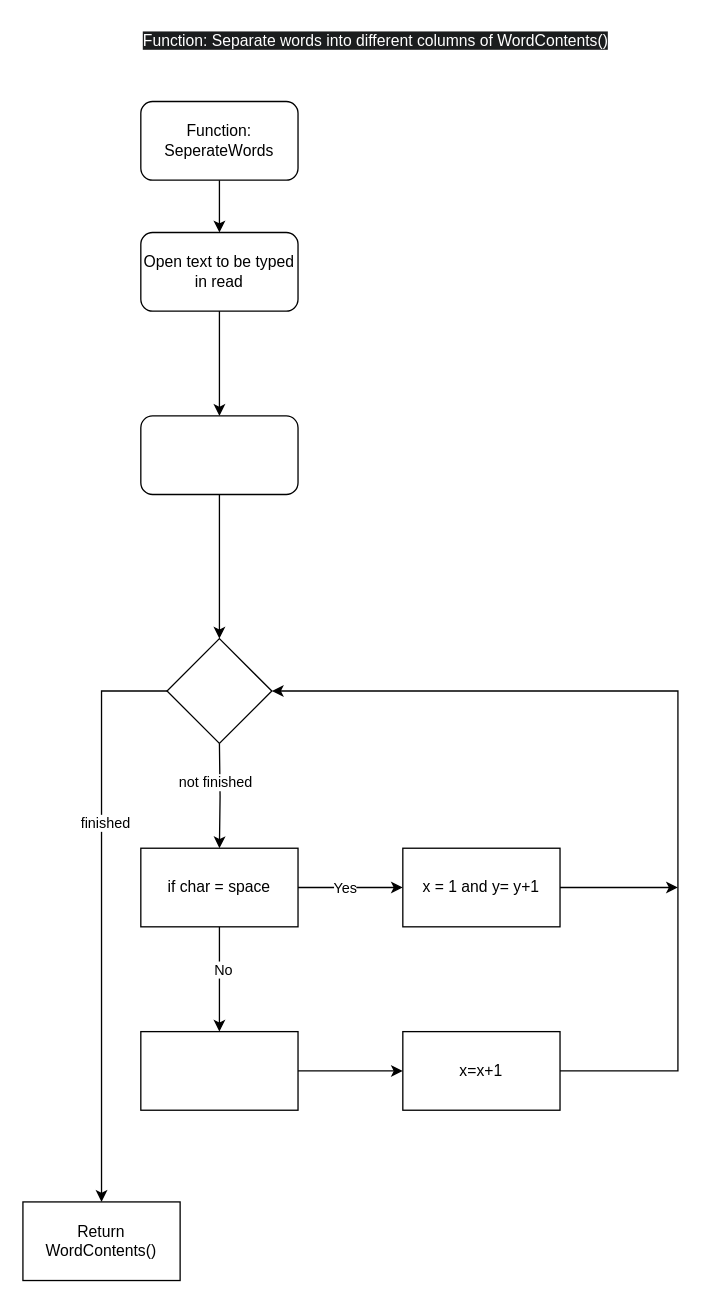
This 711x1303 diagram has some shape labels left out. The shapes that lost their labels are listed below. From the top down, each one's centre as x and y in pixels, then its label:
At (219,455): "find length of txt file (number of characters)".
At (219,690): "For the number of characters in txt file".
At (219,1070): "Save char to position x in WordContents(x,y)".
